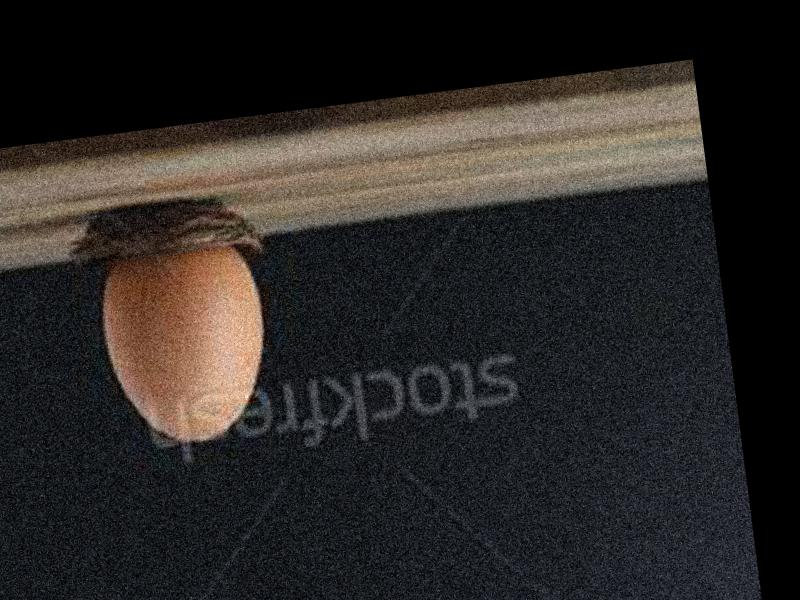Eggs: (92, 238, 273, 450)
